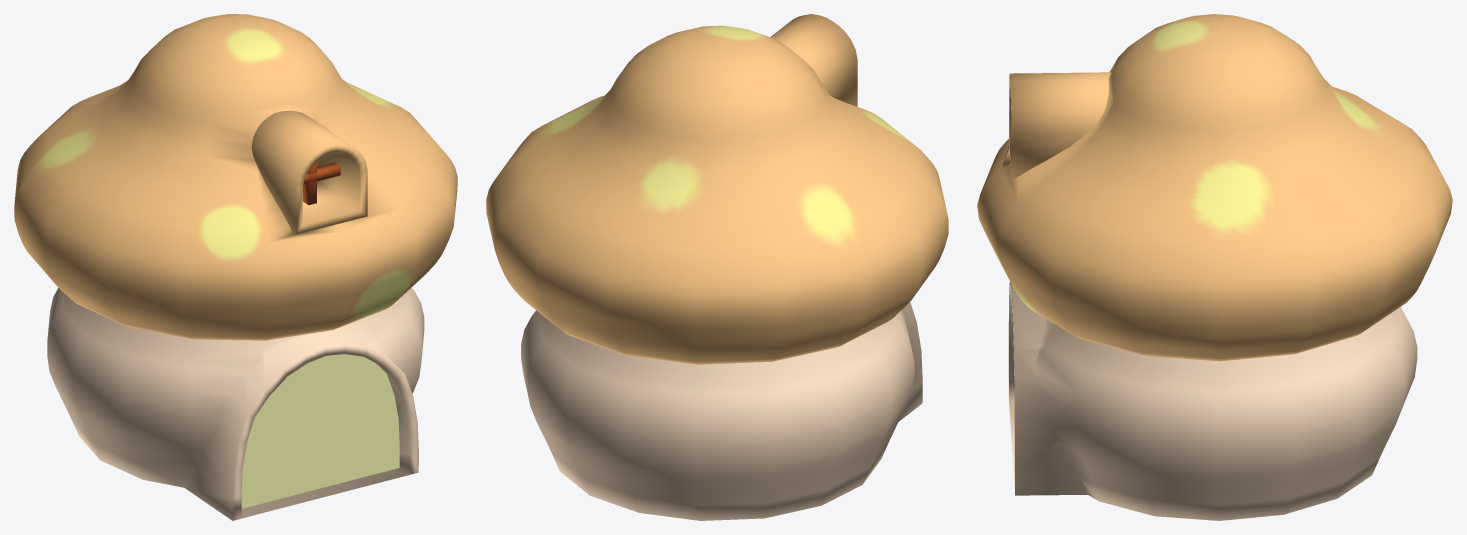
Rendered from mushroom02.glb.
The picture shows the model from 3 angles, left to right: view 1: azimuth 30°, elevation 25°; view 2: azimuth 150°, elevation 25°; view 3: azimuth 270°, elevation 25°; orthographic projection. The views are drawn at different scales.
Parts seen in each view (by area): view 1: 몸; view 2: 몸; view 3: 몸.
Boxes of the visible parts, <box> form: 몸: <box>14,14,457,520</box>; 몸: <box>486,14,948,520</box>; 몸: <box>977,14,1452,520</box>.
Bounding box in the file's own units: 1.91 × 1.87 × 1.91.
4 materials, 4 textured.
